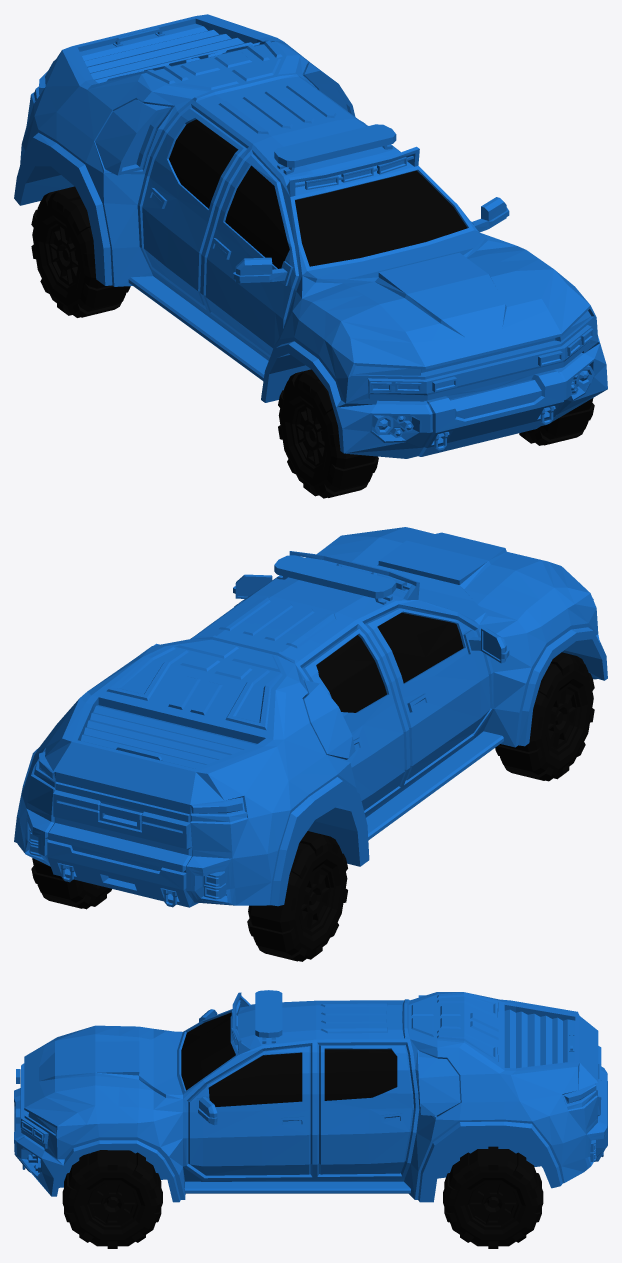
The model's file is SM_SUV.fbx.
The picture shows the model from 3 angles, top to bottom: view 1: azimuth 30°, elevation 25°; view 2: azimuth 150°, elevation 25°; view 3: azimuth 270°, elevation 25°; orthographic projection. The views are drawn at different scales.
Visible parts, largest first — view 1: Symmetry_17, Cube_6, Cube_3, Cube_1; view 2: Symmetry_17, Cube_6, Cube_3; view 3: Symmetry_17, Cube_6, Cube_1.
Boxes of the visible parts, <box> form: Symmetry_17: <box>14,14,607,458</box>; Cube_6: <box>31,186,130,317</box>; Cube_3: <box>278,369,378,498</box>; Cube_1: <box>519,398,594,445</box>; Symmetry_17: <box>14,527,607,907</box>; Cube_6: <box>31,831,347,961</box>; Cube_3: <box>495,652,594,781</box>; Symmetry_17: <box>14,990,607,1202</box>; Cube_6: <box>443,1146,543,1248</box>; Cube_1: <box>62,1150,162,1248</box>.
Bounding box in the file's own units: 233 × 201 × 568.
